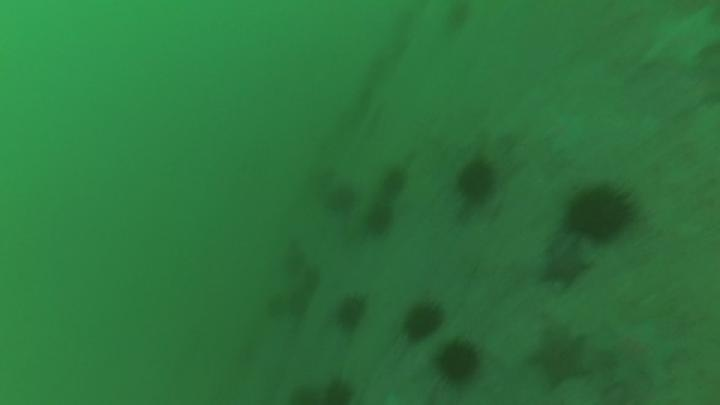echinus: (561, 180, 638, 246), (433, 337, 483, 386), (453, 156, 499, 207), (400, 298, 446, 344), (332, 292, 371, 335), (362, 202, 396, 239), (322, 182, 359, 216), (440, 1, 475, 36), (378, 165, 411, 200), (320, 376, 357, 405), (262, 291, 293, 322), (284, 288, 313, 320), (279, 244, 305, 273), (299, 265, 325, 292), (292, 382, 321, 405)
starfish: (596, 315, 684, 390), (639, 5, 719, 75), (527, 327, 594, 391), (538, 240, 594, 291), (541, 110, 589, 156)
